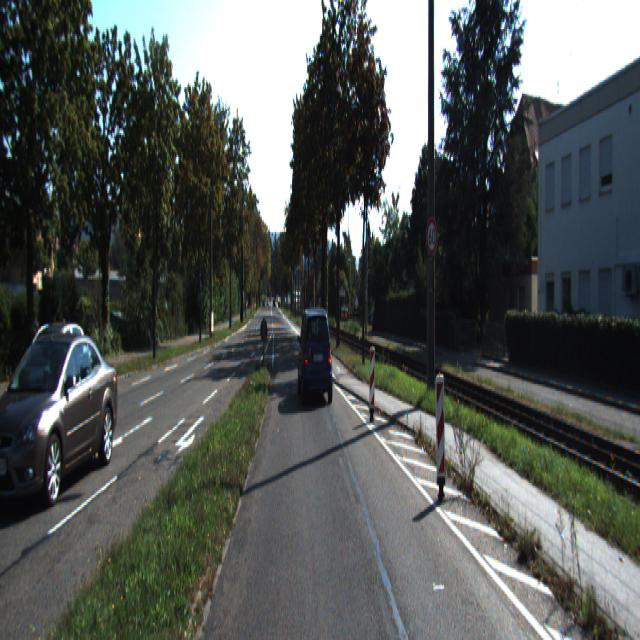Car: (0, 326, 123, 519), (13, 321, 93, 442), (297, 308, 334, 411)
